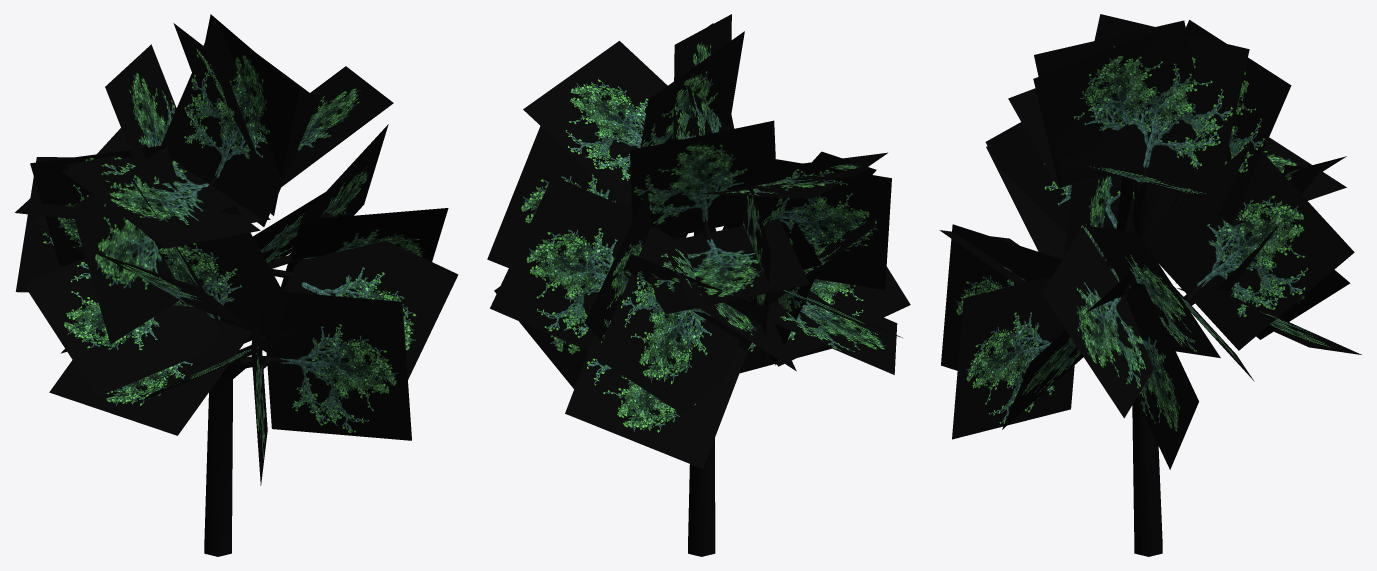
File: tree66.glb
3 renders of one model, left to right at view 1: azimuth 30°, elevation 25°; view 2: azimuth 150°, elevation 25°; view 3: azimuth 270°, elevation 25°, orthographic. The views are drawn at different scales.
Bounding box in the file's own units: 5.18 × 6.86 × 4.93.
2 materials, 1 textured.
